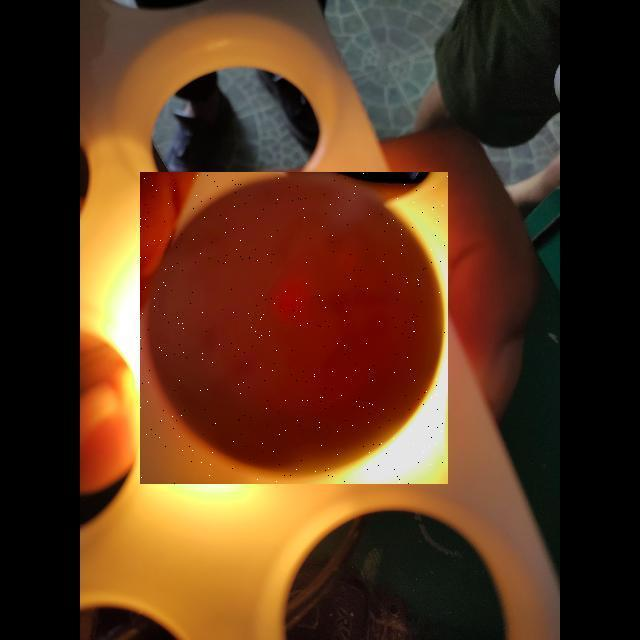A - Good: (142, 174, 446, 483)
